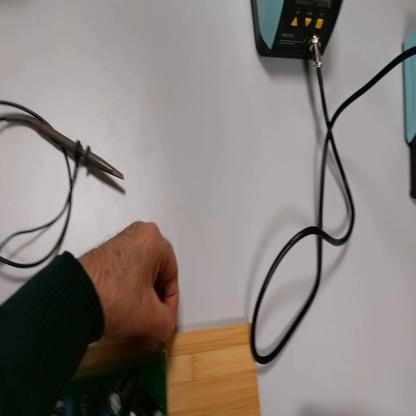hand: (79, 218, 182, 350)
high voltage board: (49, 354, 169, 416)
oscilloscope probe tip: (5, 115, 126, 182)
welder base: (401, 32, 416, 208)
welder station: (250, 2, 344, 64)
working area: (75, 324, 262, 416)
